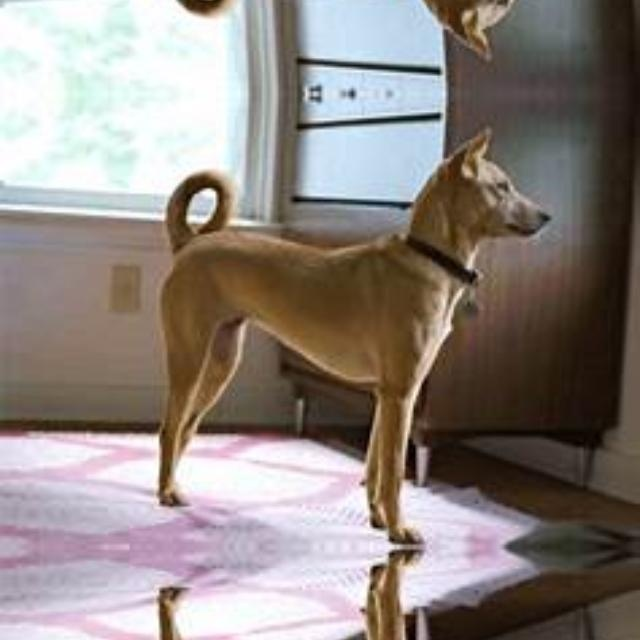dog: (146, 131, 579, 501), (146, 0, 579, 55), (146, 592, 579, 640)
